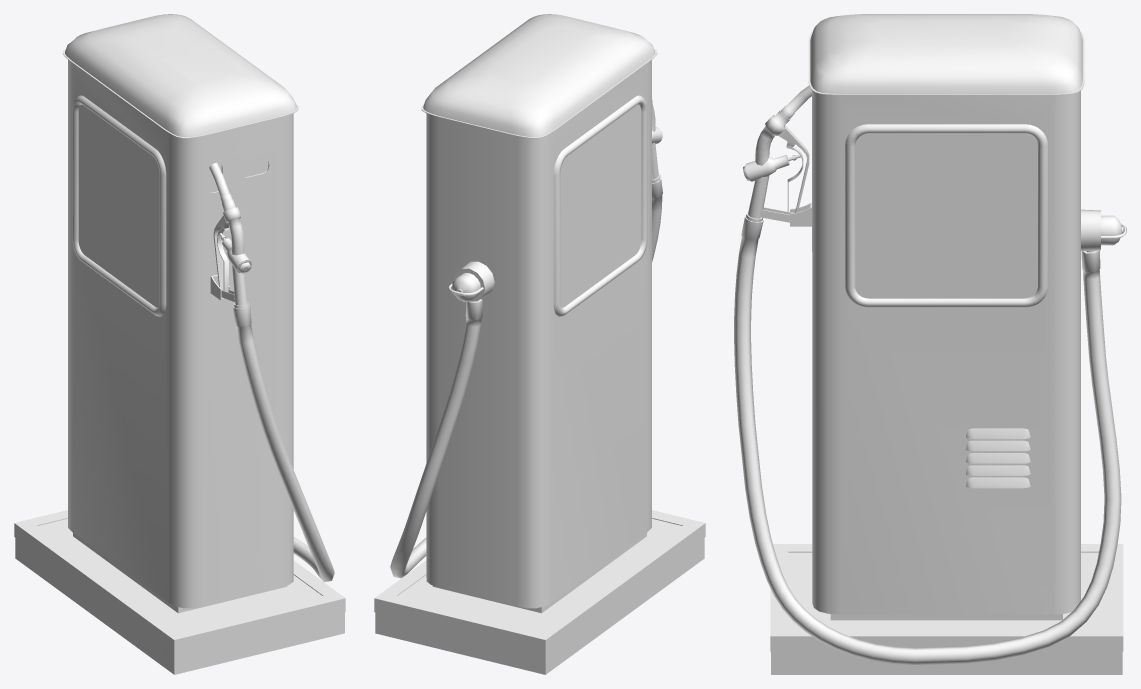
3 views of the same model, side by side, from view 1: azimuth 30°, elevation 25°; view 2: azimuth 150°, elevation 25°; view 3: azimuth 270°, elevation 25° (orthographic). The views are drawn at different scales.
Size of the model in its own units: 0.7605 by 1.95 by 1.16.
1 material, 1 textured.
